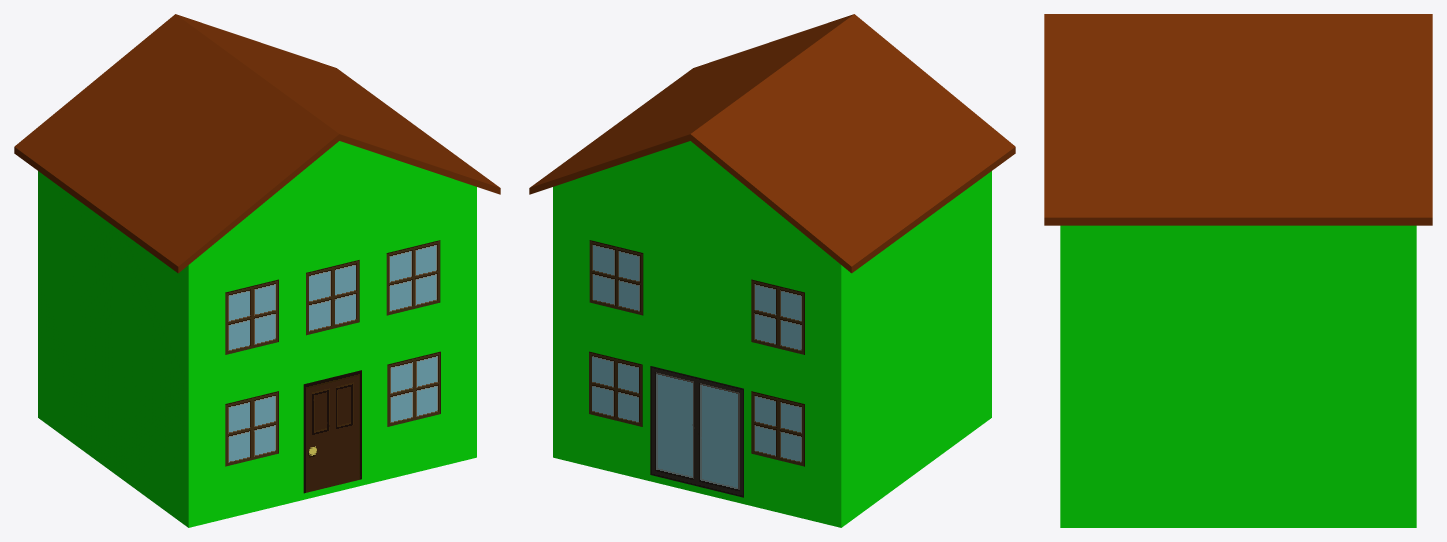
File: 2FloorHouse.obj
3 views of the same model, side by side, from view 1: azimuth 30°, elevation 25°; view 2: azimuth 150°, elevation 25°; view 3: azimuth 270°, elevation 25° (orthographic). The views are drawn at different scales.
Parts seen in each view (by area): view 1: 2FloorHouse_Exterior_Color, 2FloorHouse_Roof_Color, 2FloorHouse_Window, 2FloorHouse_Door; view 2: 2FloorHouse_Exterior_Color, 2FloorHouse_Roof_Color, 2FloorHouse_Window, 2FloorHouse_Porch_Door; view 3: 2FloorHouse_Exterior_Color, 2FloorHouse_Roof_Color.
Part boxes in pixels (box(x1,y1,x2,y2)): 2FloorHouse_Exterior_Color: box(38, 141, 476, 527); 2FloorHouse_Roof_Color: box(14, 14, 500, 273); 2FloorHouse_Window: box(225, 240, 440, 466); 2FloorHouse_Door: box(303, 370, 361, 493); 2FloorHouse_Exterior_Color: box(553, 141, 991, 527); 2FloorHouse_Roof_Color: box(529, 14, 1015, 273); 2FloorHouse_Window: box(589, 240, 804, 466); 2FloorHouse_Porch_Door: box(650, 366, 743, 497); 2FloorHouse_Exterior_Color: box(1060, 225, 1416, 527); 2FloorHouse_Roof_Color: box(1044, 14, 1432, 225).
Bounding box in the file's own units: 8.38 × 9.03 × 7.38.
